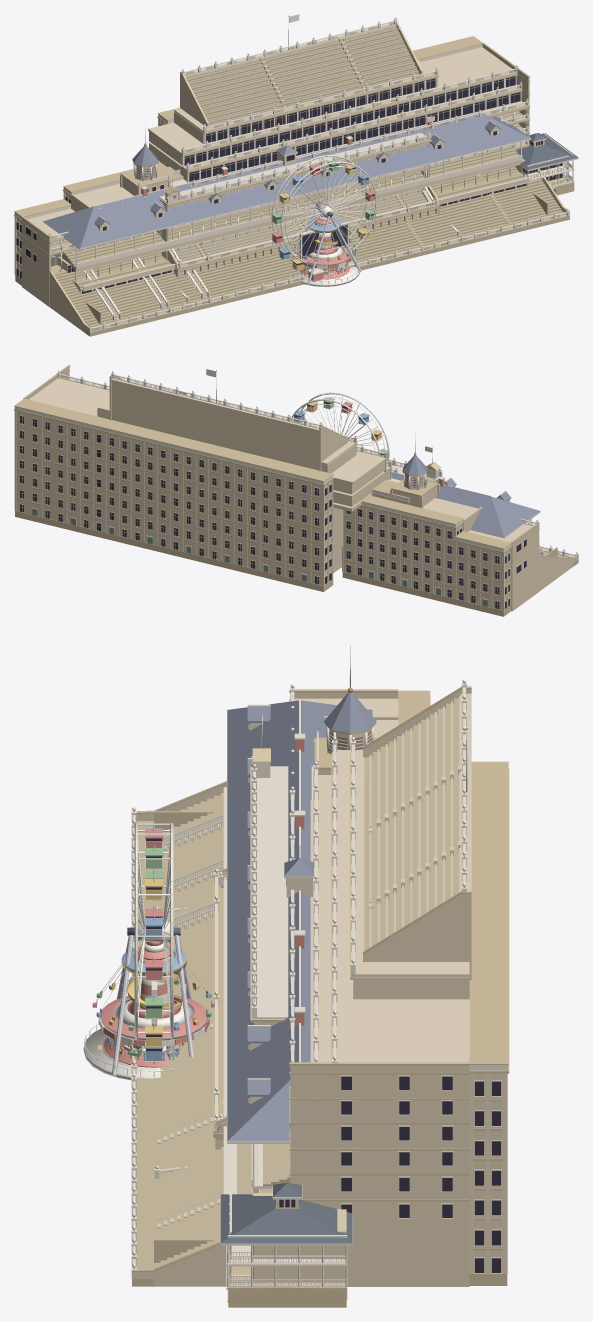
Rendered from epsom_stands.glb.
3 renders of one model, top to bottom at view 1: azimuth 30°, elevation 25°; view 2: azimuth 150°, elevation 25°; view 3: azimuth 270°, elevation 25°, orthographic. The views are drawn at different scales.
Visible parts, largest first — view 1: epsom_grandstand, epsom_rowley_stand, epsom_balcony_stand, epsom_ferris_wheel, epsom_carousel, epsom_chair_swing, epsom_big_screen, epsom_helter_skelter; view 2: epsom_grandstand, epsom_rowley_stand, epsom_ferris_wheel, epsom_balcony_stand; view 3: epsom_grandstand, epsom_rowley_stand, epsom_balcony_stand, epsom_ferris_wheel, epsom_carousel, epsom_chair_swing, epsom_helter_skelter.
Part boxes in pixels (x1,y1,x2,y2): epsom_grandstand: [14, 14, 569, 336]; epsom_rowley_stand: [43, 112, 578, 324]; epsom_balcony_stand: [157, 116, 460, 302]; epsom_ferris_wheel: [271, 155, 376, 284]; epsom_carousel: [296, 246, 352, 280]; epsom_chair_swing: [290, 218, 359, 286]; epsom_big_screen: [299, 222, 348, 272]; epsom_helter_skelter: [311, 203, 340, 279]; epsom_grandstand: [14, 365, 578, 616]; epsom_rowley_stand: [391, 464, 557, 556]; epsom_ferris_wheel: [291, 392, 389, 461]; epsom_balcony_stand: [179, 391, 442, 504]; epsom_grandstand: [131, 645, 509, 1286]; epsom_rowley_stand: [154, 699, 372, 1307]; epsom_balcony_stand: [154, 714, 313, 1178]; epsom_ferris_wheel: [112, 823, 193, 1075]; epsom_carousel: [98, 995, 209, 1069]; epsom_chair_swing: [83, 947, 214, 1080]; epsom_helter_skelter: [98, 941, 181, 1060].
Bounding box in the file's own units: 157 × 55.36 × 57.45.
